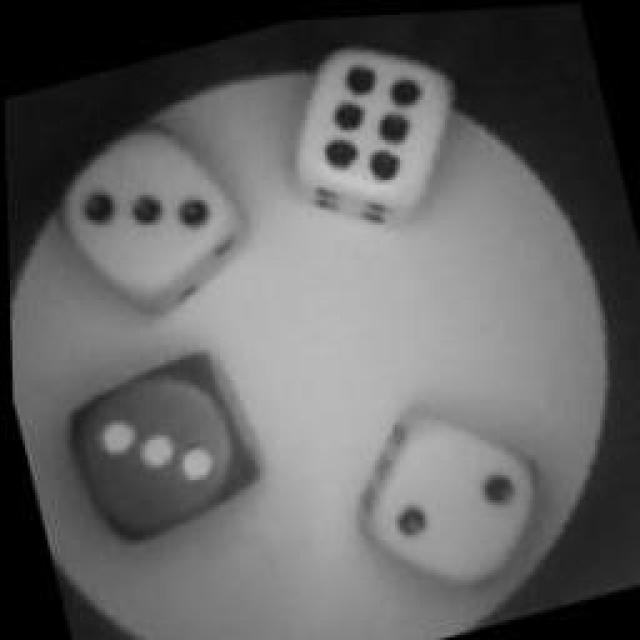dice_2: (340, 408, 555, 612)
dice_3: (42, 95, 260, 333), (62, 340, 262, 542)
dice_6: (282, 32, 458, 220)
